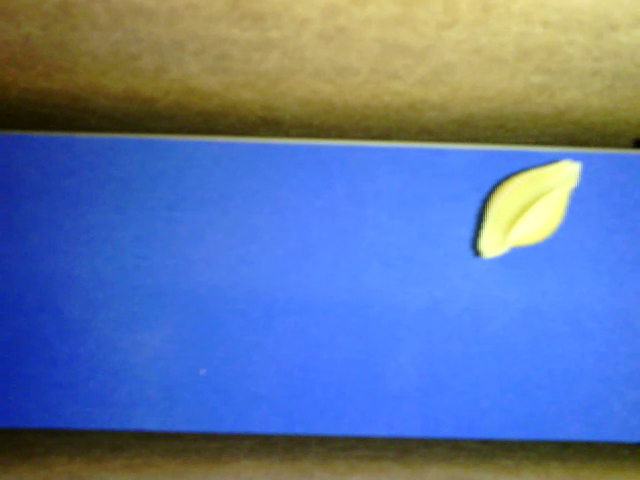shell: (476, 158, 582, 261)
